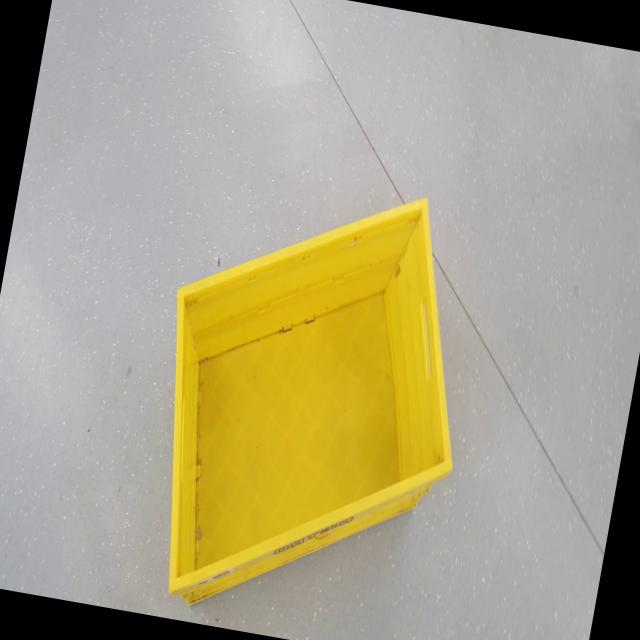box: (120, 134, 517, 640)
